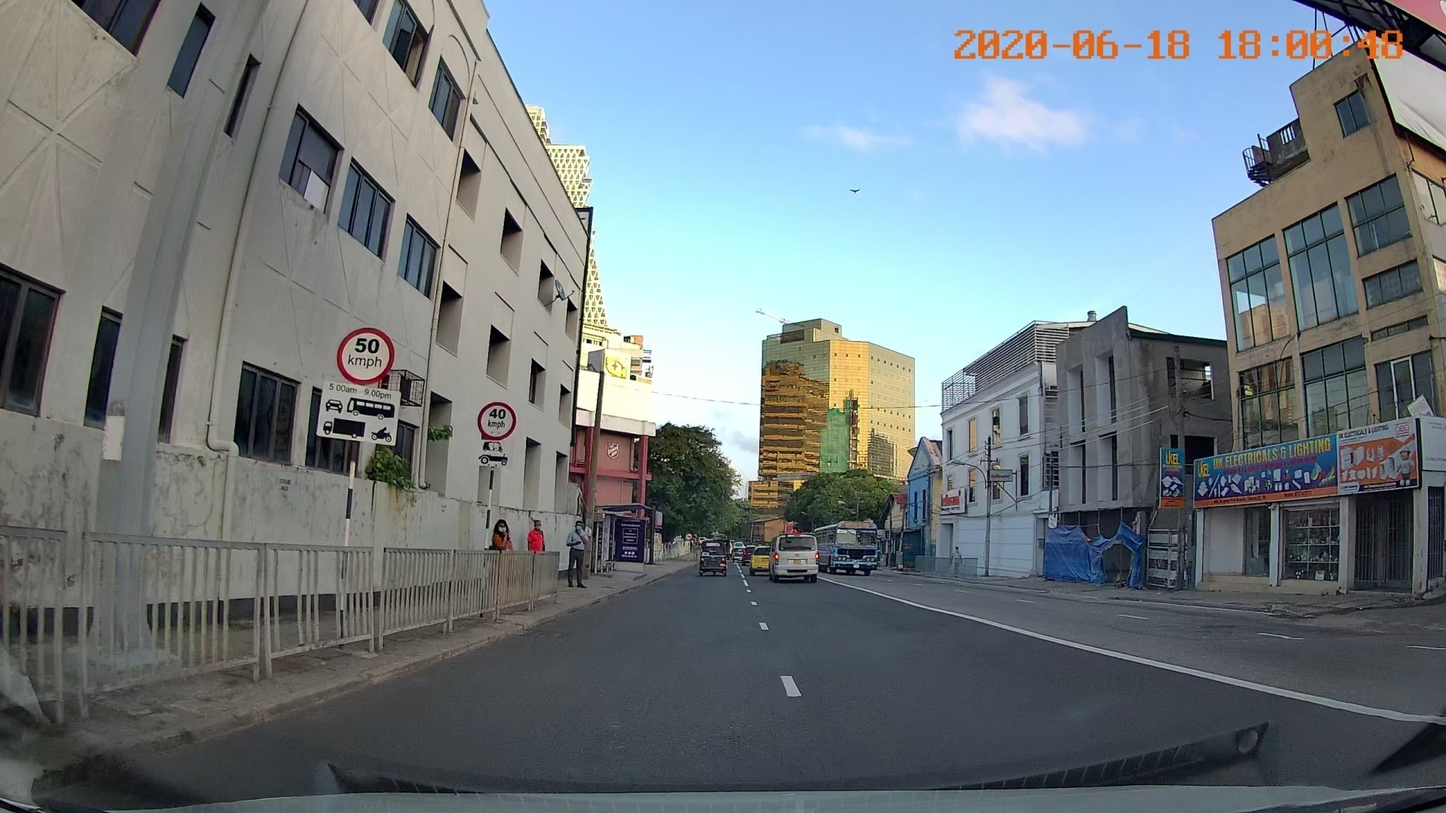APR-09: (316, 379, 402, 446)
APR-12: (472, 437, 516, 470)
SLS-40: (477, 400, 517, 440)
SLS-50: (335, 325, 396, 386)
